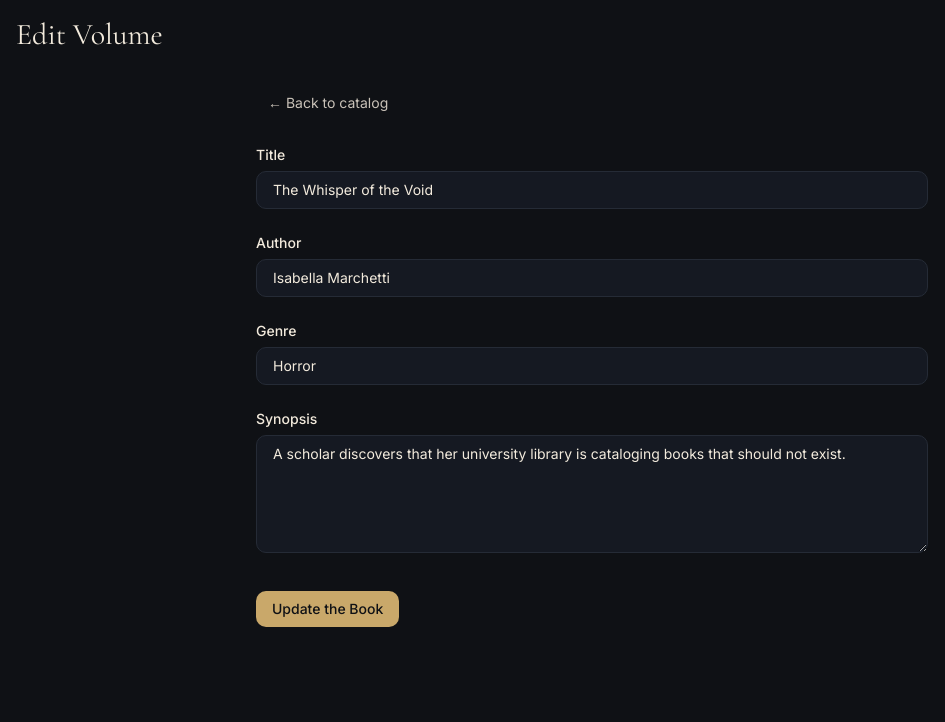
Test case: EditBookPage › shows a form-level conflict error and stays on the page
This screenshot has width=945, height=722.
Click the button "Update the Book". click: (328, 609)
box: x1=256 y1=591 x2=399 y2=627
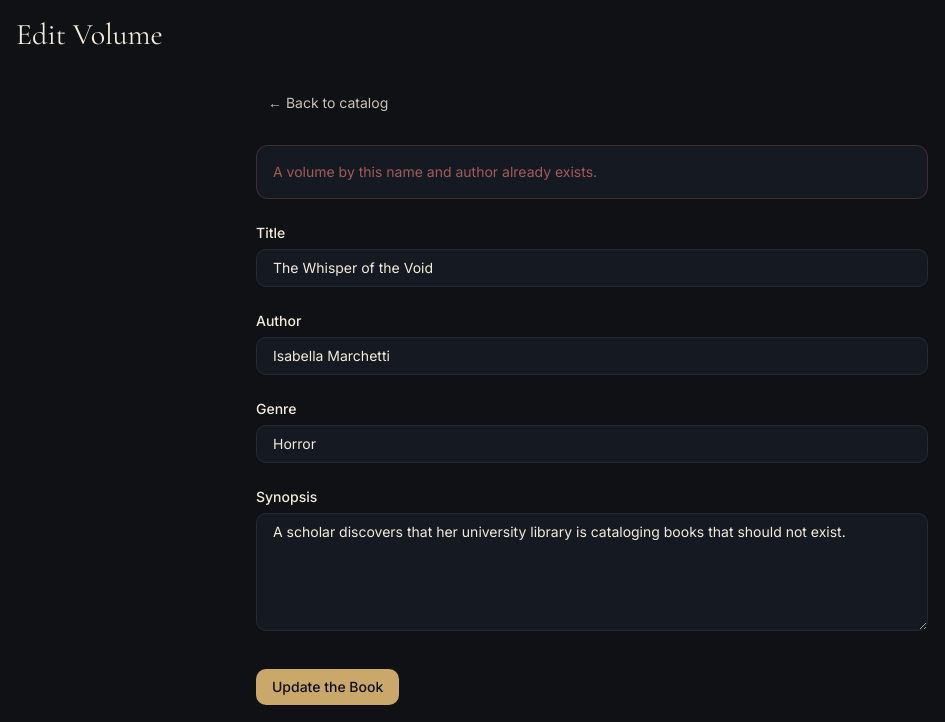
Check: the heading "Edit Volume" is shown, box x1=16 y1=16 x2=163 y2=53
Check: the message reads "A volume by this name and author already exists.", box x1=273 y1=163 x2=597 y2=180
